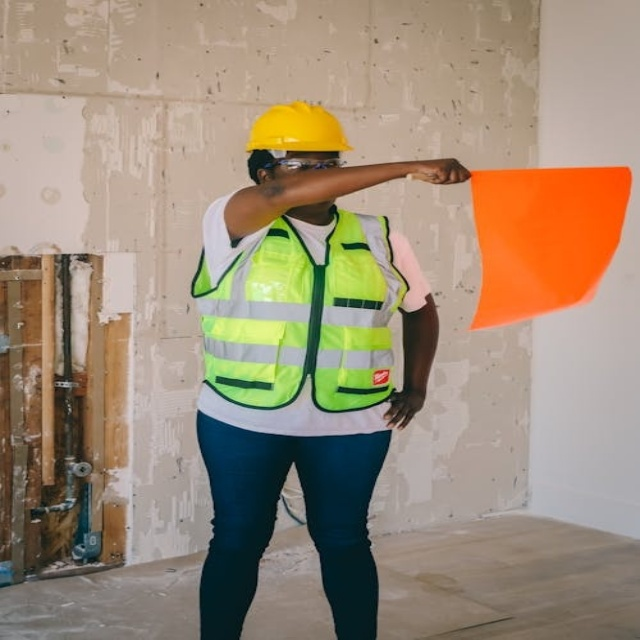Gafas: (269, 158, 345, 171)
Sin_guantes: (401, 152, 476, 193), (384, 389, 426, 425)
